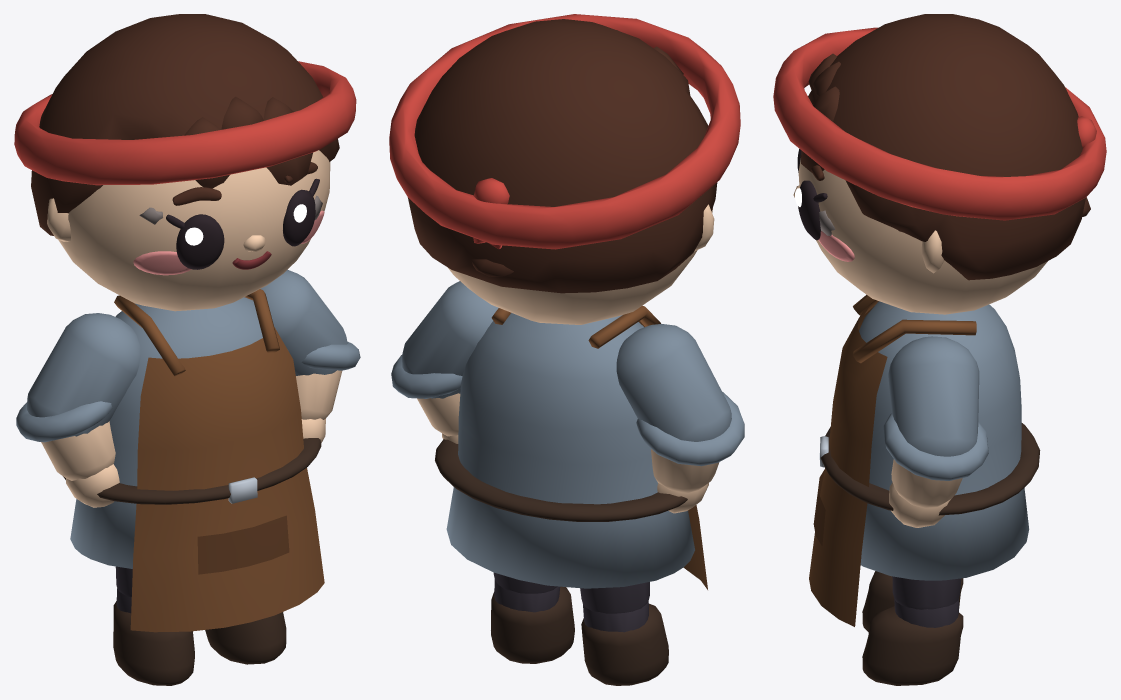
File: npc_blacksmith.glb
3 renders of one model, left to right at view 1: azimuth 30°, elevation 25°; view 2: azimuth 150°, elevation 25°; view 3: azimuth 270°, elevation 25°, orthographic. The views are drawn at different scales.
Parts seen in each view (by area): view 1: head_S_body, spine_S_body, uarm_R, el_R_S_body, uarm_L, knee_R_S_body, head_S_eye_dot, el_L_S_body, knee_L_S_body, hand_R_S_body, head_S_cheek_blush, head_S_brow_neutral; view 2: head_S_body, spine_S_body, uarm_R, knee_R_S_body, knee_L_S_body, uarm_L, el_R_S_body, el_L_S_body, thigh_R, thigh_L, hand_R_S_body; view 3: head_S_body, spine_S_body, uarm_L, knee_L_S_body, el_L_S_body, thigh_L, knee_R_S_body, head_S_eye_dot, hand_L_S_body, head_S_cheek_blush.
Part boxes in pixels (bbox=[...]): head_S_body: bbox=[14, 14, 356, 311]; spine_S_body: bbox=[63, 289, 324, 632]; uarm_R: bbox=[27, 313, 140, 436]; el_R_S_body: bbox=[16, 401, 115, 480]; uarm_L: bbox=[253, 269, 347, 375]; knee_R_S_body: bbox=[113, 588, 194, 685]; head_S_eye_dot: bbox=[166, 178, 319, 269]; el_L_S_body: bbox=[296, 341, 360, 419]; knee_L_S_body: bbox=[205, 612, 286, 664]; hand_R_S_body: bbox=[66, 464, 119, 507]; head_S_cheek_blush: bbox=[133, 210, 324, 275]; head_S_brow_neutral: bbox=[172, 162, 317, 205]; head_S_body: bbox=[389, 14, 740, 324]; spine_S_body: bbox=[435, 305, 707, 589]; uarm_R: bbox=[616, 323, 731, 441]; knee_R_S_body: bbox=[581, 601, 668, 685]; knee_L_S_body: bbox=[491, 579, 574, 663]; uarm_L: bbox=[402, 281, 498, 398]; el_R_S_body: bbox=[636, 392, 744, 492]; el_L_S_body: bbox=[391, 355, 462, 436]; thigh_R: bbox=[580, 582, 649, 613]; thigh_L: bbox=[493, 572, 557, 593]; hand_R_S_body: bbox=[657, 483, 708, 513]; head_S_body: bbox=[773, 14, 1106, 314]; spine_S_body: bbox=[809, 294, 1040, 626]; uarm_L: bbox=[888, 336, 979, 456]; knee_L_S_body: bbox=[862, 598, 963, 685]; el_L_S_body: bbox=[883, 413, 988, 508]; thigh_L: bbox=[892, 576, 961, 609]; knee_R_S_body: bbox=[862, 571, 963, 632]; head_S_eye_dot: bbox=[795, 149, 827, 240]; hand_L_S_body: bbox=[889, 482, 950, 527]; head_S_cheek_blush: bbox=[818, 231, 854, 261].
Size of what is drawn, in the model's own units: 0.7626 by 1.38 by 0.6651.
